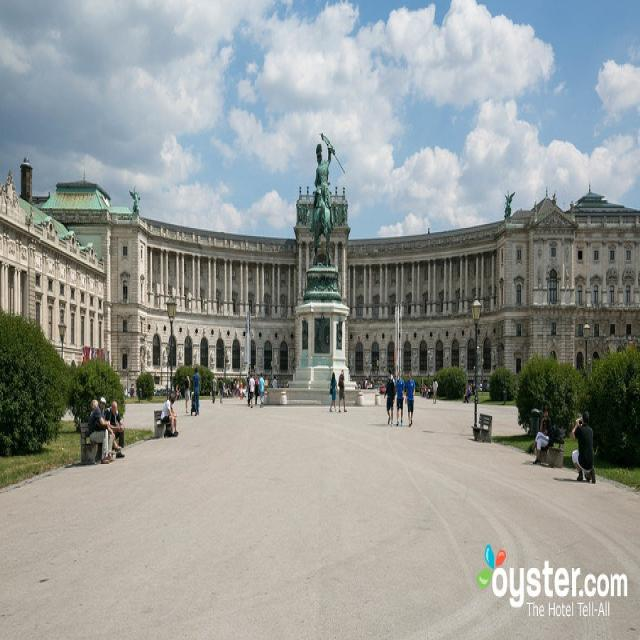body: (294, 143, 348, 228), (569, 408, 596, 484), (87, 394, 115, 466), (526, 404, 554, 467), (88, 396, 115, 459), (103, 398, 125, 458), (158, 392, 179, 437), (382, 366, 396, 426), (404, 370, 416, 430), (394, 369, 406, 427), (164, 393, 179, 436), (337, 368, 347, 415), (355, 376, 384, 391), (192, 364, 200, 417), (328, 371, 338, 413), (267, 371, 289, 389), (222, 377, 239, 400), (183, 372, 192, 415), (419, 376, 432, 403), (462, 380, 474, 405), (247, 371, 255, 408), (257, 372, 265, 409), (210, 375, 218, 405), (253, 371, 259, 405), (246, 369, 251, 407), (173, 383, 183, 401), (218, 375, 224, 404), (432, 376, 438, 405), (124, 382, 134, 398), (238, 377, 244, 403), (66, 406, 74, 418)
